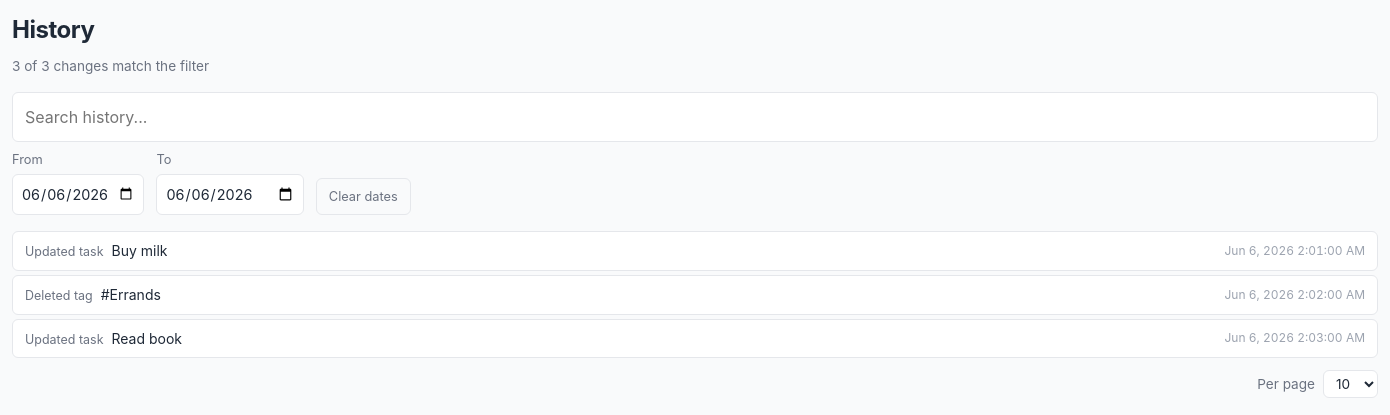
Test case: HistoryView — search + pagination › filters by title, summary, entity, event, or id
Type "tag.deleted" into the field labelled "Search history..." at (695, 117), box [12, 92, 1378, 142]
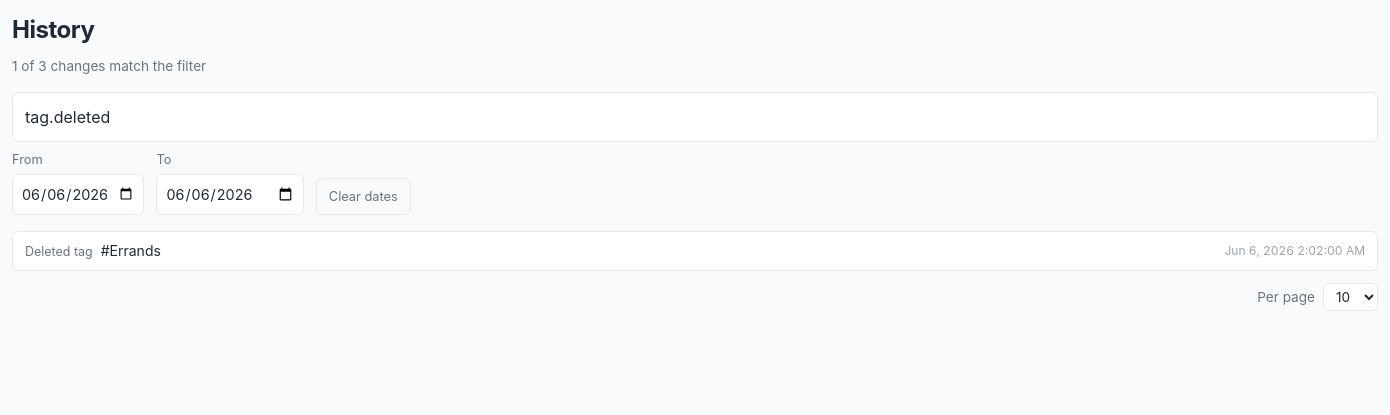
Check: the text "#Errands" is shown, box [101, 240, 161, 261]
Replace the text in the field named "Search history" with "special" at (695, 117), box [12, 92, 1378, 142]
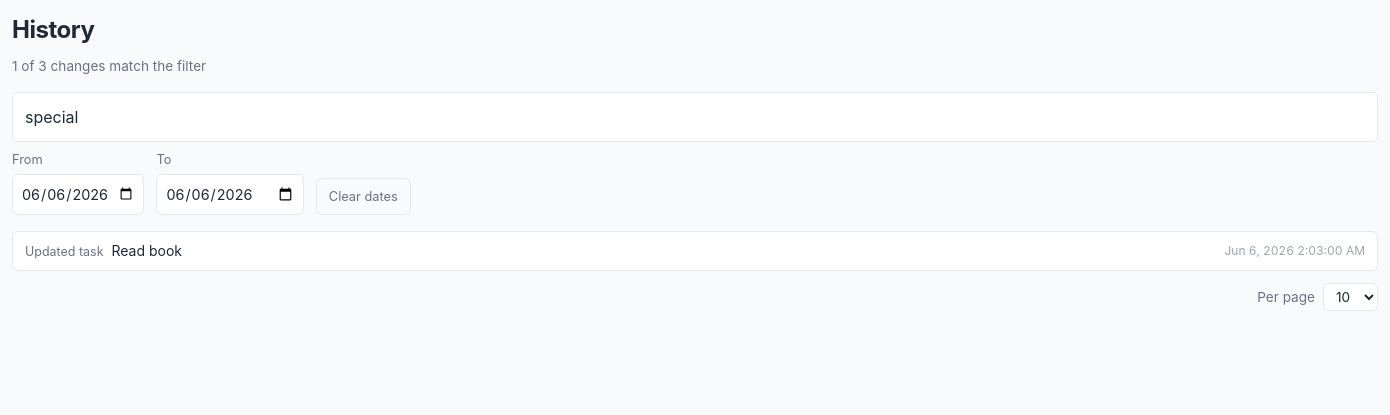
Check: the text "Read book" is shown, box [112, 240, 182, 261]
Replace the text in the field named "Search history" with "MILK" at (695, 117), box [12, 92, 1378, 142]
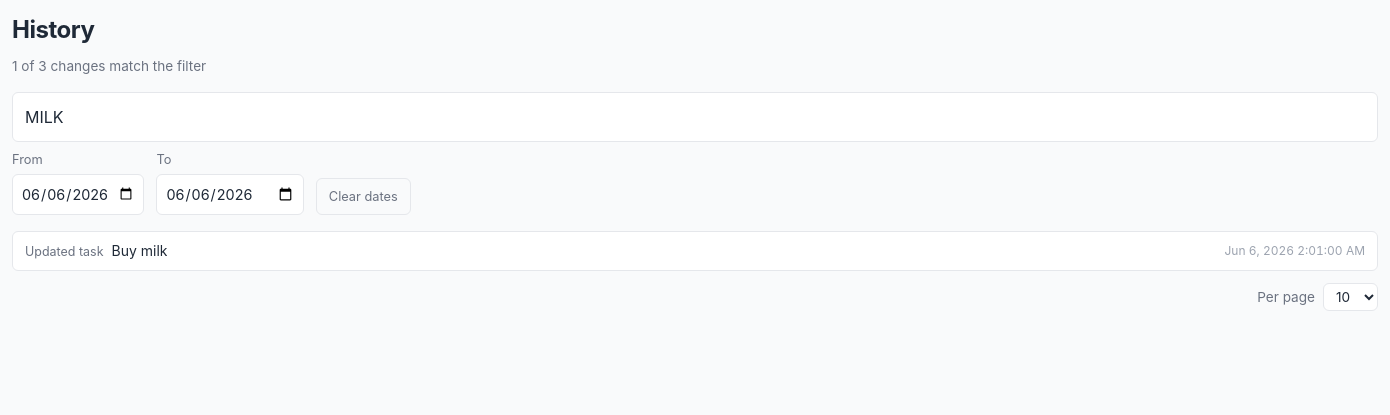
Check: the text "Buy milk" is shown, box [112, 240, 168, 261]
